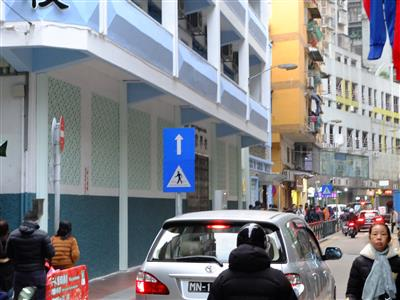oneway: (159, 124, 198, 160)
pedestrianCrossing: (160, 159, 197, 193)
